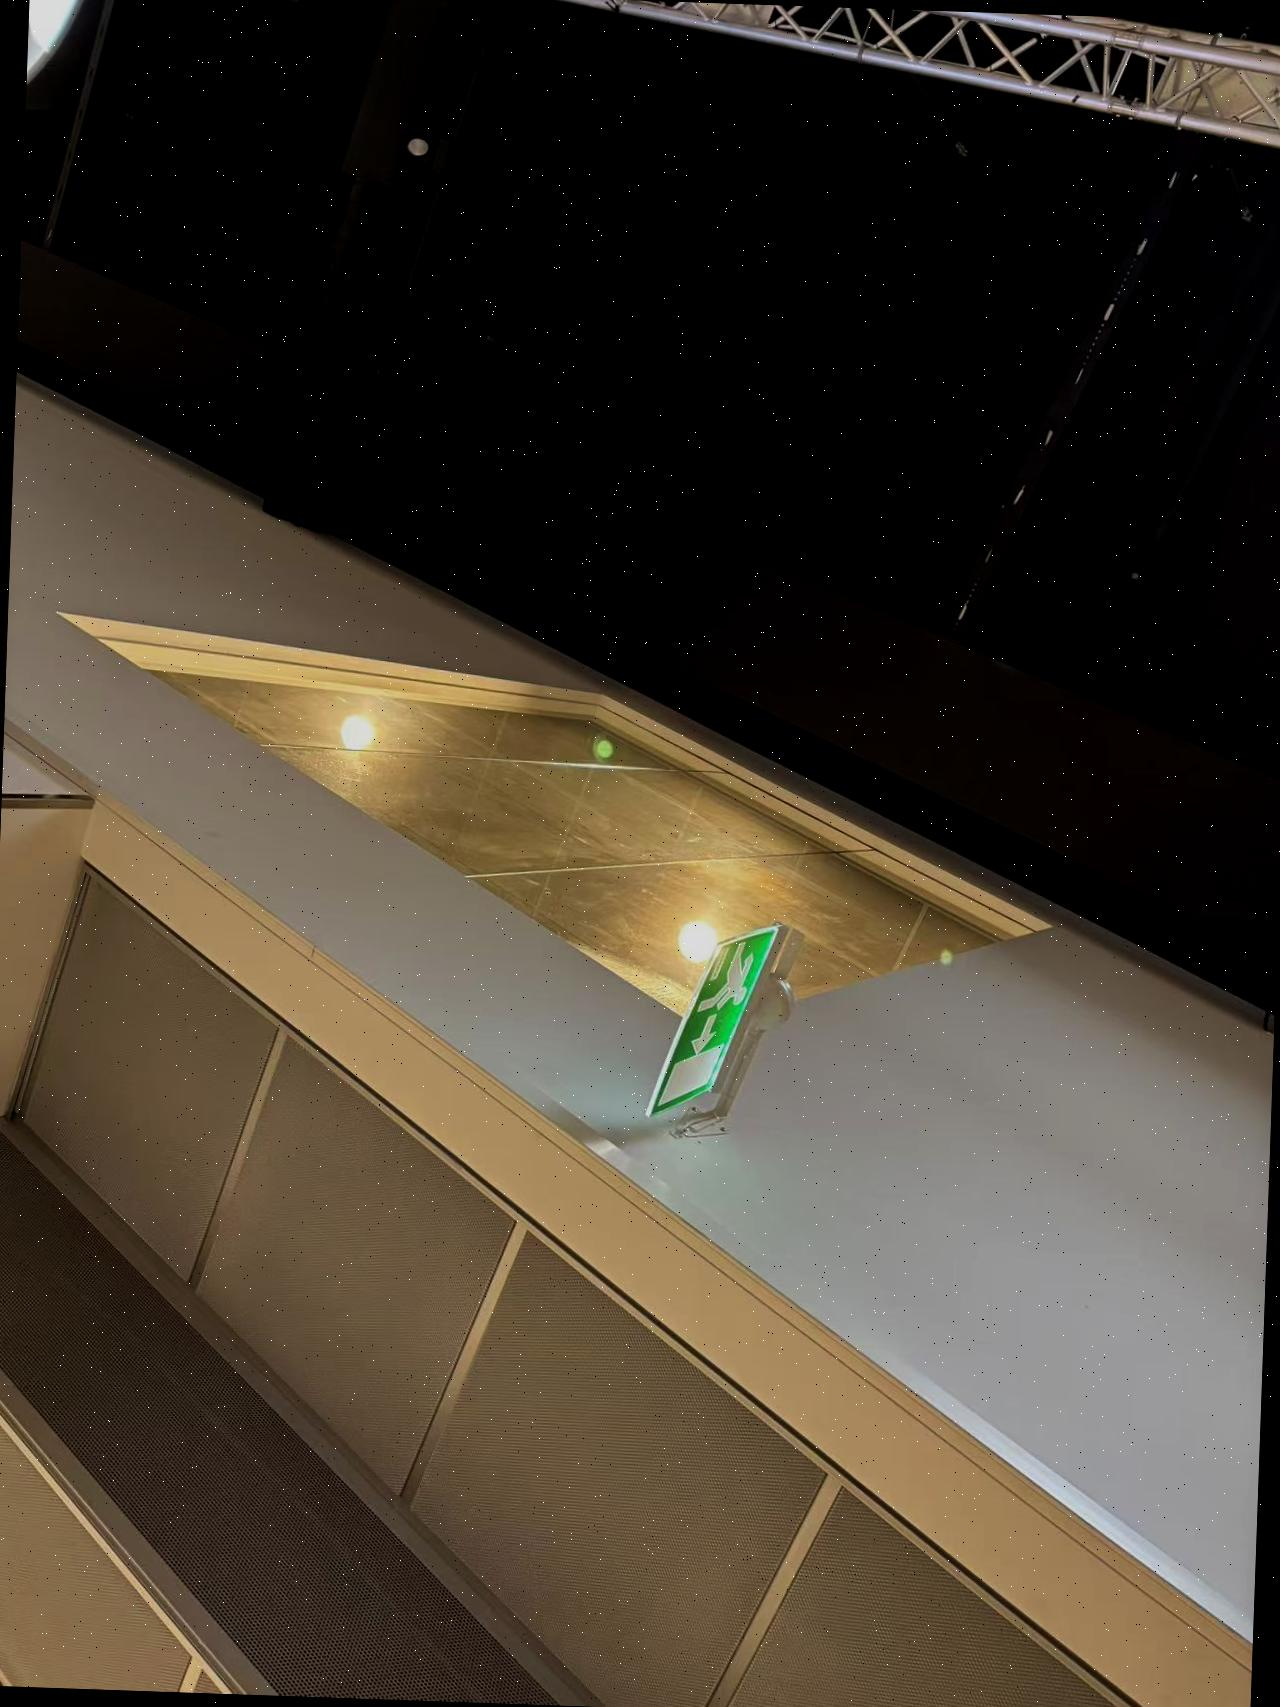exit_sign: (663, 925, 781, 1116)
